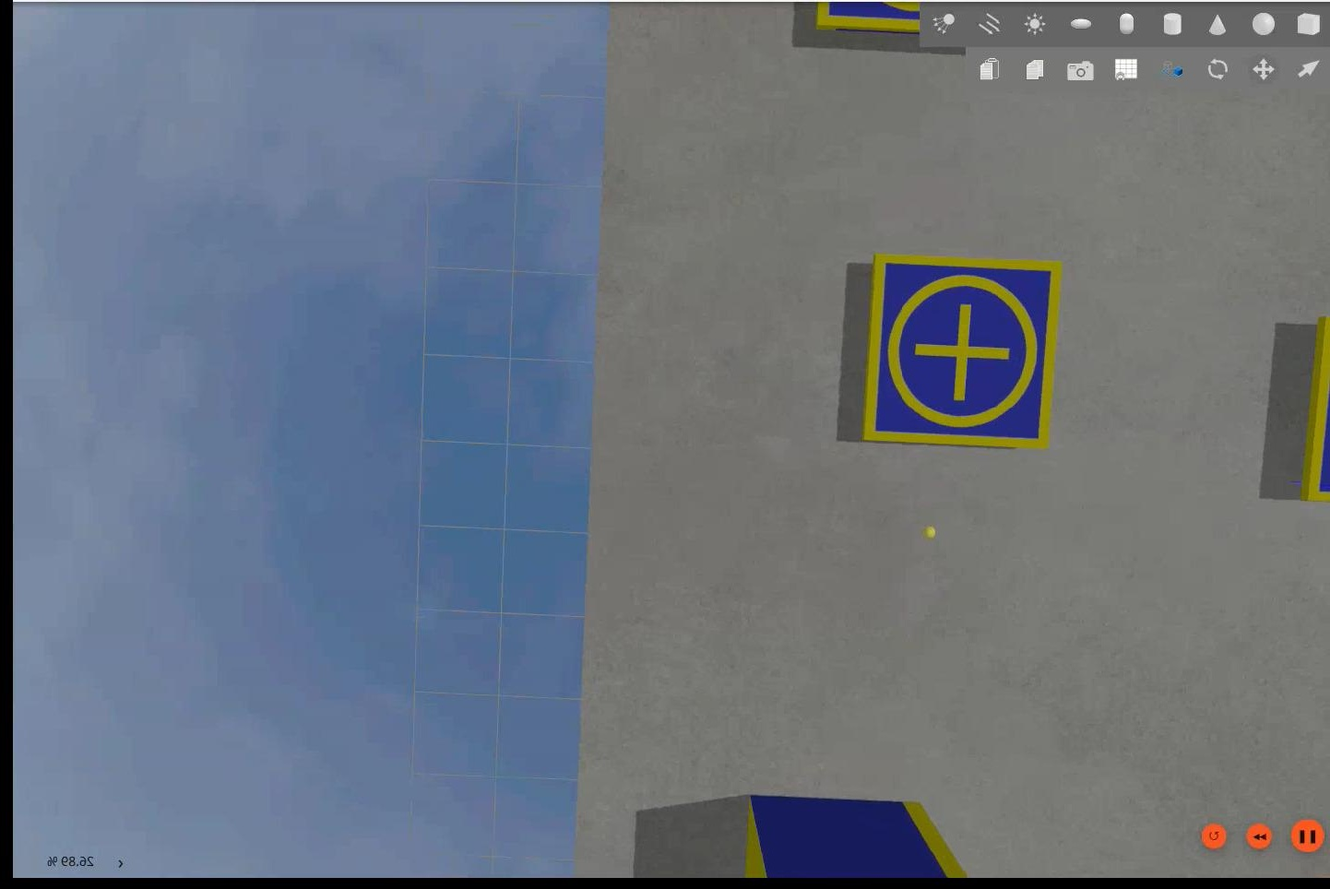small_base: (856, 251, 1062, 454)
